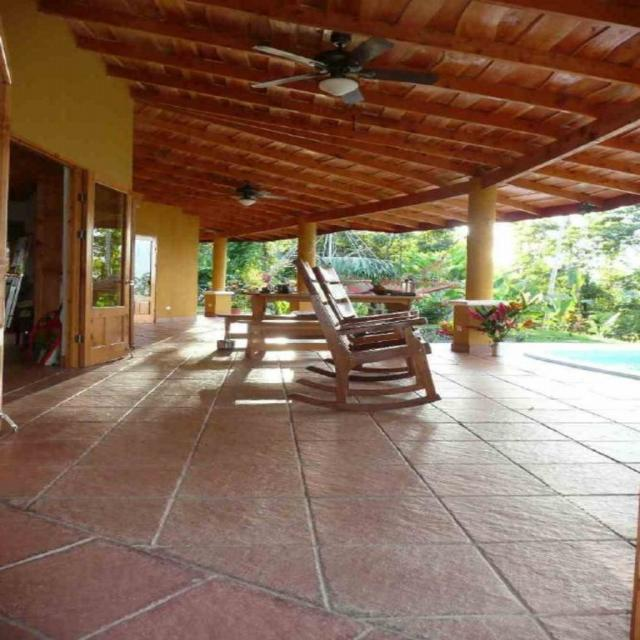Bulb: (246, 33, 436, 105), (218, 183, 288, 209)
